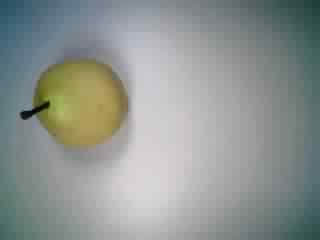pear: (15, 54, 131, 149)
